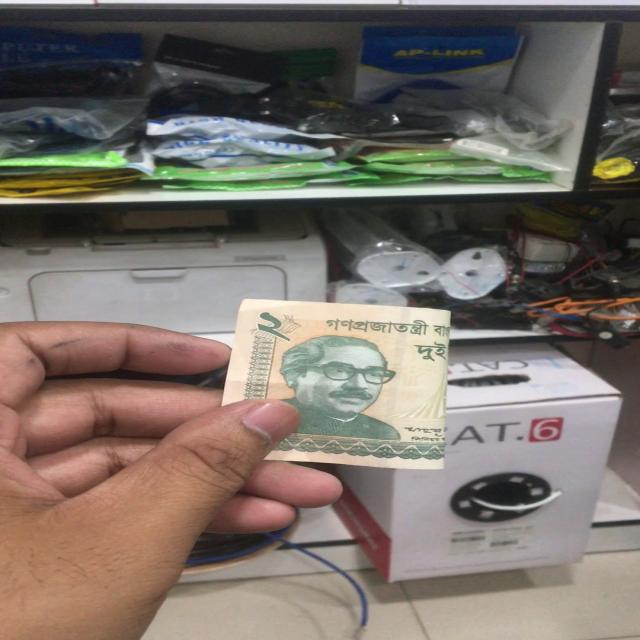Taka: (228, 299, 453, 471)
